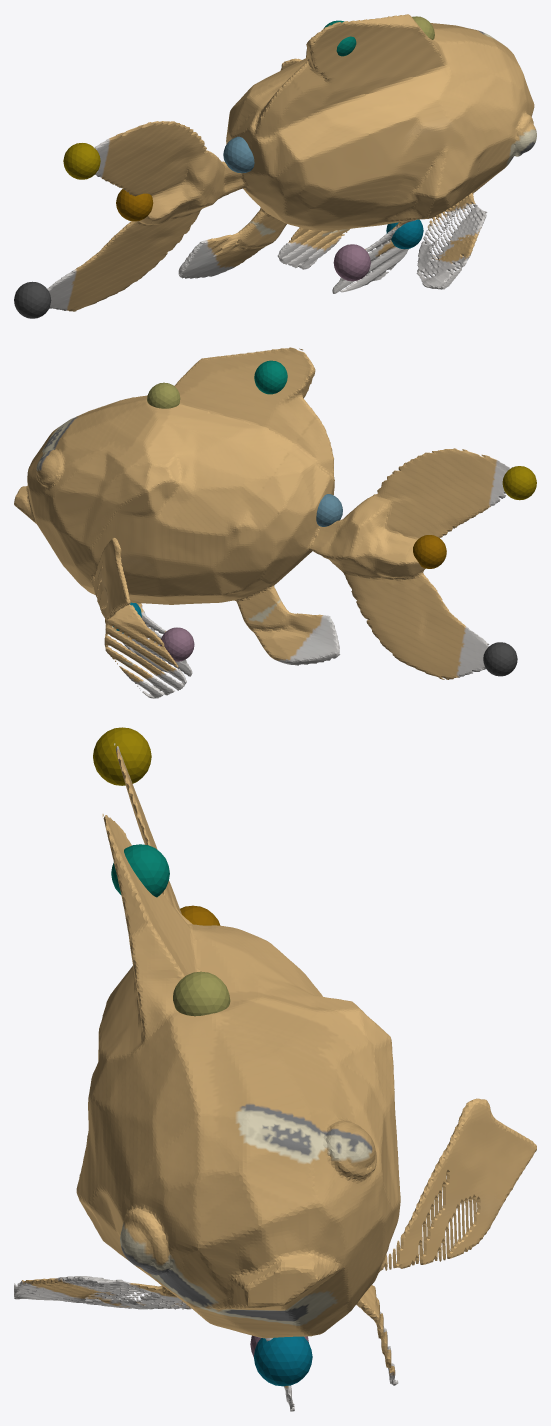
File: triposg_marked_anchors.glb
The picture shows the model from 3 angles, top to bottom: view 1: azimuth 30°, elevation 25°; view 2: azimuth 150°, elevation 25°; view 3: azimuth 270°, elevation 25°; orthographic projection. The views are drawn at different scales.
Visible parts, largest first — view 1: world, anchor_07_rgb_022_022_022, anchor_03_rgb_090_053_073, anchor_05_rgb_101_070_000, anchor_00_rgb_094_041_000, anchor_04_rgb_038_079_103, anchor_01_rgb_000_050_078; view 2: world, anchor_07_rgb_022_022_022, anchor_05_rgb_101_070_000, anchor_00_rgb_094_041_000, anchor_02_rgb_000_070_051, anchor_03_rgb_090_053_073, anchor_06_rgb_106_100_029, anchor_04_rgb_038_079_103; view 3: world, anchor_05_rgb_101_070_000, anchor_01_rgb_000_050_078, anchor_06_rgb_106_100_029, anchor_02_rgb_000_070_051.
Part boxes in pixels (bbox=[...]): world: bbox=[47, 14, 536, 311]; anchor_07_rgb_022_022_022: bbox=[14, 281, 51, 318]; anchor_03_rgb_090_053_073: bbox=[333, 244, 370, 281]; anchor_05_rgb_101_070_000: bbox=[63, 143, 100, 179]; anchor_00_rgb_094_041_000: bbox=[116, 189, 153, 221]; anchor_04_rgb_038_079_103: bbox=[223, 136, 254, 173]; anchor_01_rgb_000_050_078: bbox=[386, 219, 423, 249]; world: bbox=[14, 347, 512, 698]; anchor_07_rgb_022_022_022: bbox=[483, 642, 517, 676]; anchor_05_rgb_101_070_000: bbox=[502, 466, 536, 500]; anchor_00_rgb_094_041_000: bbox=[413, 535, 446, 568]; anchor_02_rgb_000_070_051: bbox=[254, 360, 287, 394]; anchor_03_rgb_090_053_073: bbox=[160, 627, 194, 661]; anchor_06_rgb_106_100_029: bbox=[147, 382, 180, 408]; anchor_04_rgb_038_079_103: bbox=[316, 494, 342, 526]; world: bbox=[14, 743, 536, 1411]; anchor_05_rgb_101_070_000: bbox=[93, 727, 151, 785]; anchor_01_rgb_000_050_078: bbox=[254, 1336, 312, 1386]; anchor_06_rgb_106_100_029: bbox=[173, 971, 230, 1016]; anchor_02_rgb_000_070_051: bbox=[111, 844, 169, 897].
Size of the model in its own units: 1.94 by 1.17 by 1.07.
